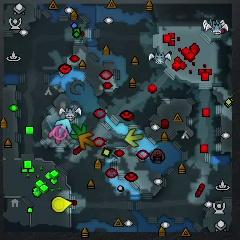p4: (51, 196, 71, 212)
x1: (49, 126, 66, 144)
x2: (124, 129, 143, 147)
x3: (56, 119, 72, 135)
x4: (70, 123, 87, 139)
x5: (79, 132, 96, 150)
